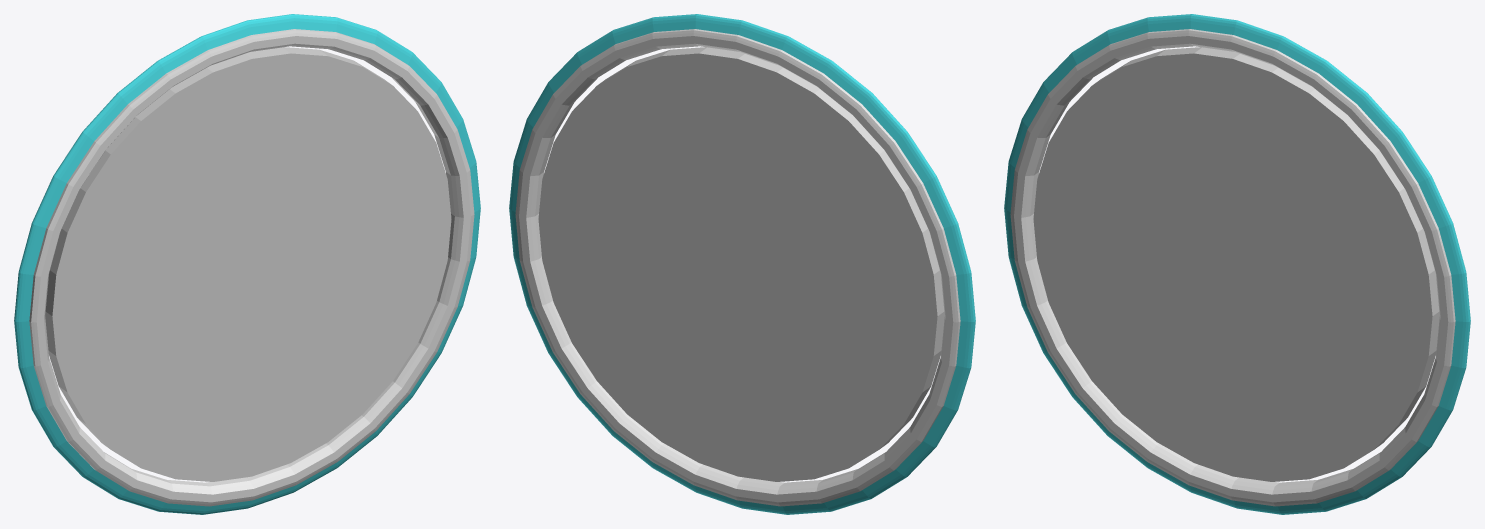
File: CheckpointRing.fbx
3 views of the same model, side by side, from view 1: azimuth 30°, elevation 25°; view 2: azimuth 150°, elevation 25°; view 3: azimuth 330°, elevation 25° (orthographic).
Visible parts, largest first — view 1: Trigger, Ring; view 2: Trigger, Ring; view 3: Trigger, Ring.
Part boxes in pixels (<box>): Trigger: <box>45,47,451,481</box>; Ring: <box>14,14,480,514</box>; Trigger: <box>538,47,944,481</box>; Ring: <box>509,14,975,514</box>; Trigger: <box>1033,47,1439,481</box>; Ring: <box>1004,14,1470,514</box>.
Size of the model in its own units: 2102 by 2102 by 100.
